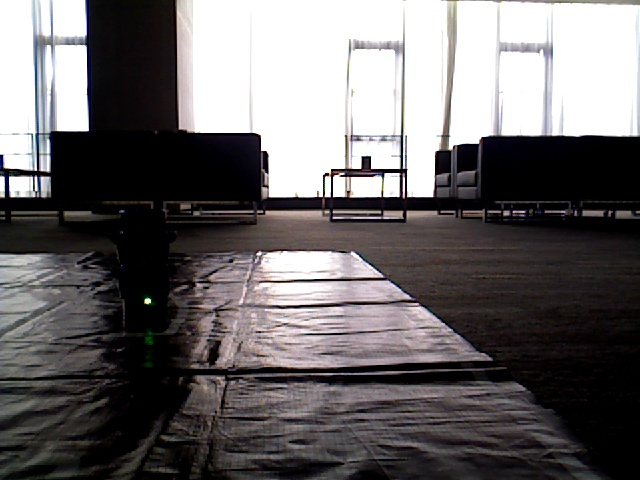green: (129, 213, 167, 312)
